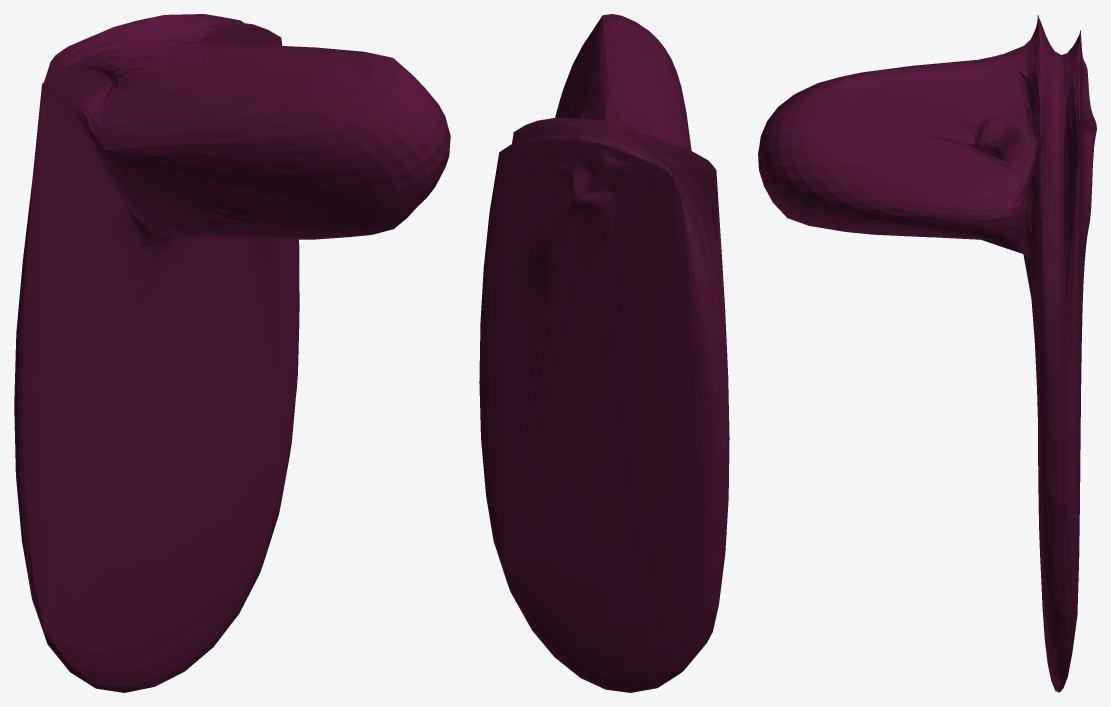
The picture shows the model from 3 angles, left to right: view 1: azimuth 30°, elevation 25°; view 2: azimuth 150°, elevation 25°; view 3: azimuth 270°, elevation 25°; orthographic projection. The views are drawn at different scales.
Parts seen in each view (by area): view 1: 509_Cube.2056; view 2: 509_Cube.2056; view 3: 509_Cube.2056.
Boxes of the visible parts, x1,y1,x2,y2 form: 509_Cube.2056: (14,14,450,692); 509_Cube.2056: (479,14,729,692); 509_Cube.2056: (758,15,1096,692).
Bounding box in the file's own units: 5.41 × 11.72 × 5.49.
